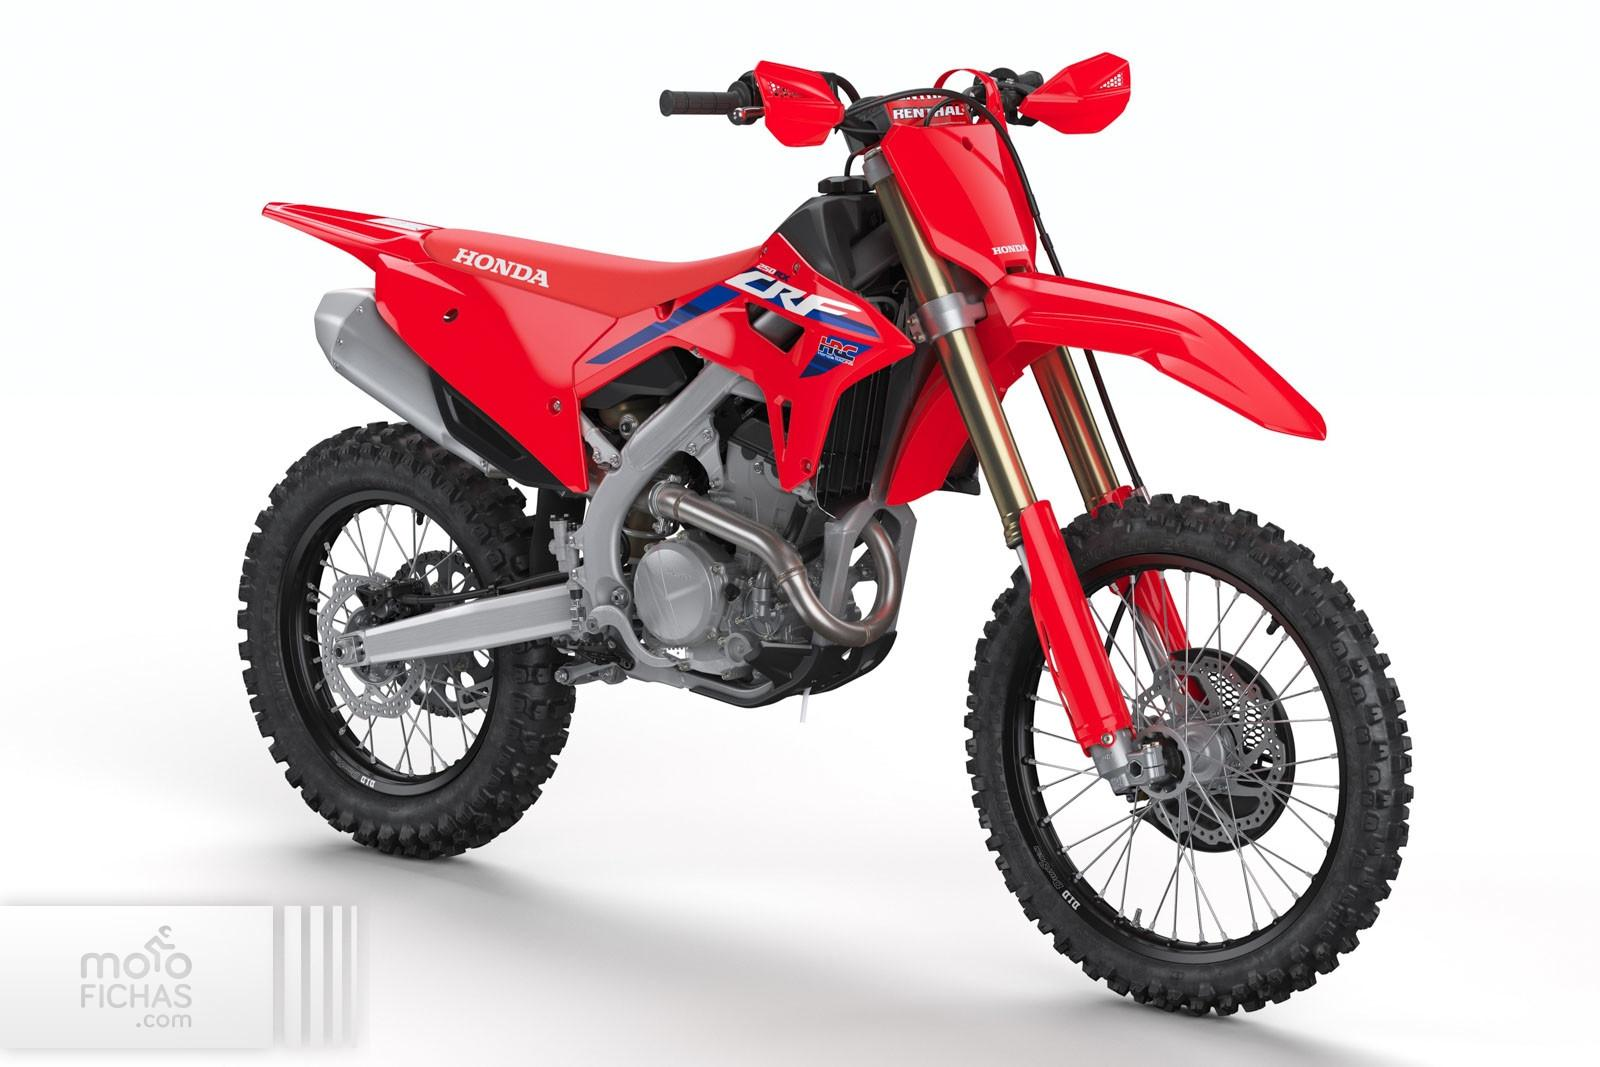engine-chasis: (548, 345, 919, 725)
exhaust: (314, 286, 570, 492), (630, 474, 901, 645)
frontside: (573, 102, 1327, 797), (1113, 569, 1190, 656)
handlebar: (658, 48, 1135, 173)
motorbike: (239, 54, 1408, 1012), (999, 370, 1088, 528)
rearside: (261, 202, 617, 495), (337, 582, 571, 667), (529, 487, 585, 574)
seat: (420, 227, 762, 317)
tank: (779, 174, 882, 294)
watermark: (0, 905, 376, 1048)
wheel: (965, 494, 1410, 1012), (239, 422, 574, 856), (981, 107, 1067, 276), (1083, 347, 1151, 500)
